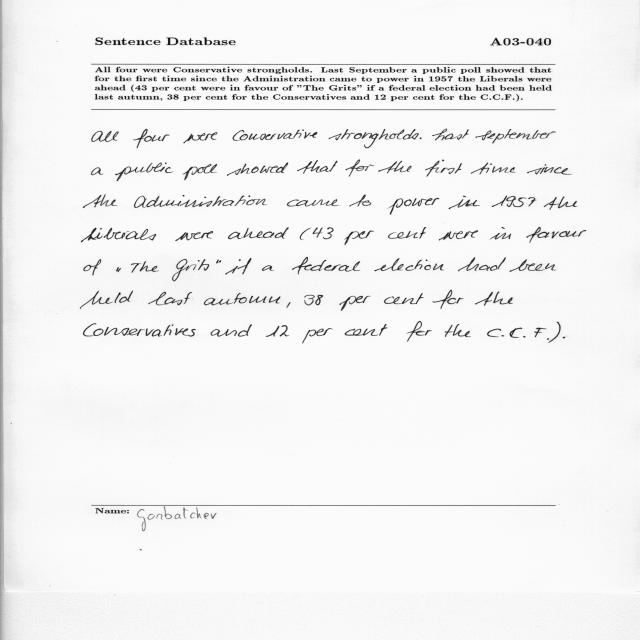word: (134, 195, 267, 208), (329, 129, 419, 148), (83, 323, 196, 337), (292, 257, 360, 275), (476, 129, 556, 143), (115, 163, 173, 182), (82, 228, 157, 242), (233, 129, 318, 141), (527, 227, 587, 243), (81, 291, 134, 309), (204, 293, 280, 305), (374, 258, 444, 271), (389, 198, 440, 215), (227, 162, 288, 176), (172, 259, 209, 281), (488, 328, 550, 340), (228, 227, 289, 239), (133, 129, 170, 148), (458, 258, 506, 272), (425, 160, 462, 177), (510, 259, 556, 272), (433, 290, 464, 309), (297, 160, 338, 174), (148, 292, 192, 305), (475, 291, 513, 306), (183, 164, 217, 180), (211, 324, 252, 337), (471, 163, 515, 175), (407, 321, 432, 342), (345, 324, 388, 336), (302, 328, 333, 344), (527, 164, 572, 175), (346, 160, 375, 177), (492, 196, 536, 207), (83, 194, 117, 208), (340, 296, 371, 311), (544, 196, 577, 210), (388, 227, 426, 239), (378, 161, 412, 174), (384, 293, 424, 304), (225, 258, 252, 274), (344, 231, 374, 245), (287, 199, 339, 207), (432, 129, 469, 140), (449, 196, 480, 209), (439, 231, 478, 241), (175, 231, 213, 241), (184, 133, 218, 144), (445, 324, 471, 337), (131, 261, 159, 273), (92, 131, 119, 142), (266, 325, 289, 337), (490, 227, 511, 240), (548, 322, 561, 343), (84, 259, 101, 275), (350, 195, 372, 207), (313, 228, 334, 240), (305, 295, 324, 305), (300, 228, 311, 240), (92, 168, 104, 176), (262, 265, 274, 271), (286, 302, 291, 308), (116, 267, 121, 272), (216, 260, 221, 264), (563, 337, 566, 339), (420, 137, 422, 139)
